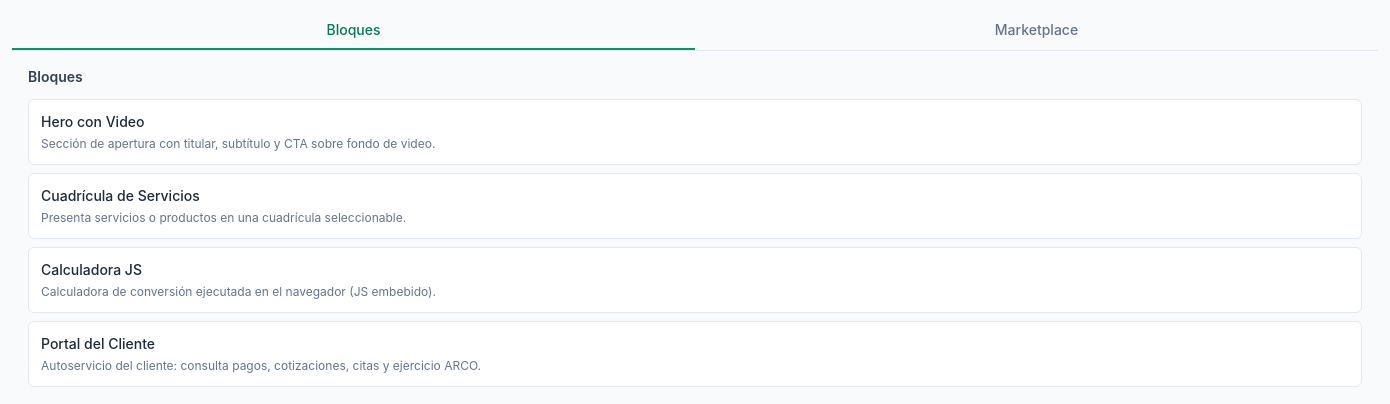
EditorSidebar › cambia a la pestaña Marketplace y muestra el panel del catálogo
Click the tab "Marketplace".
click(1036, 31)  # box [695,12,1378,50]
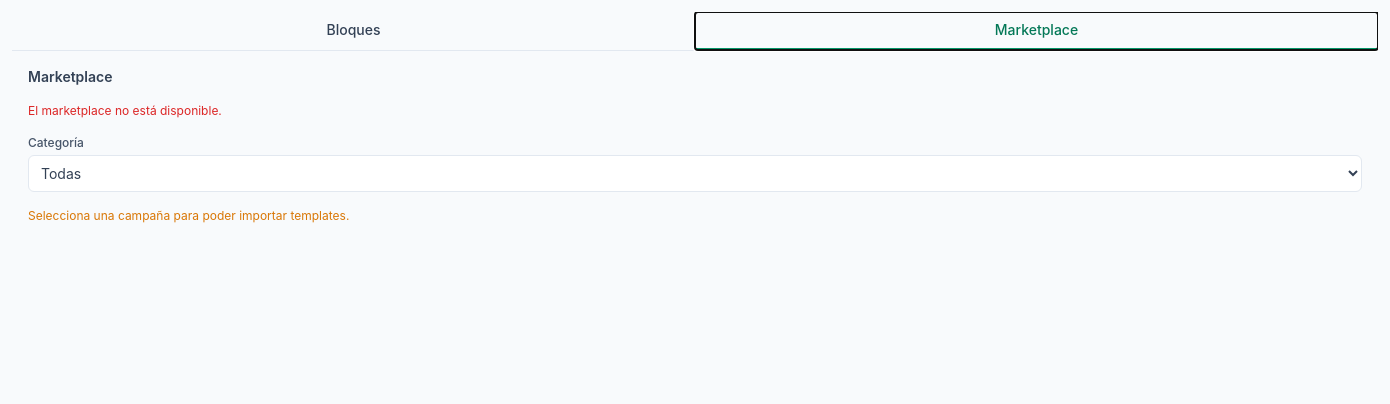
Expected: the heading "Marketplace" is shown, [28,68,112,85]
